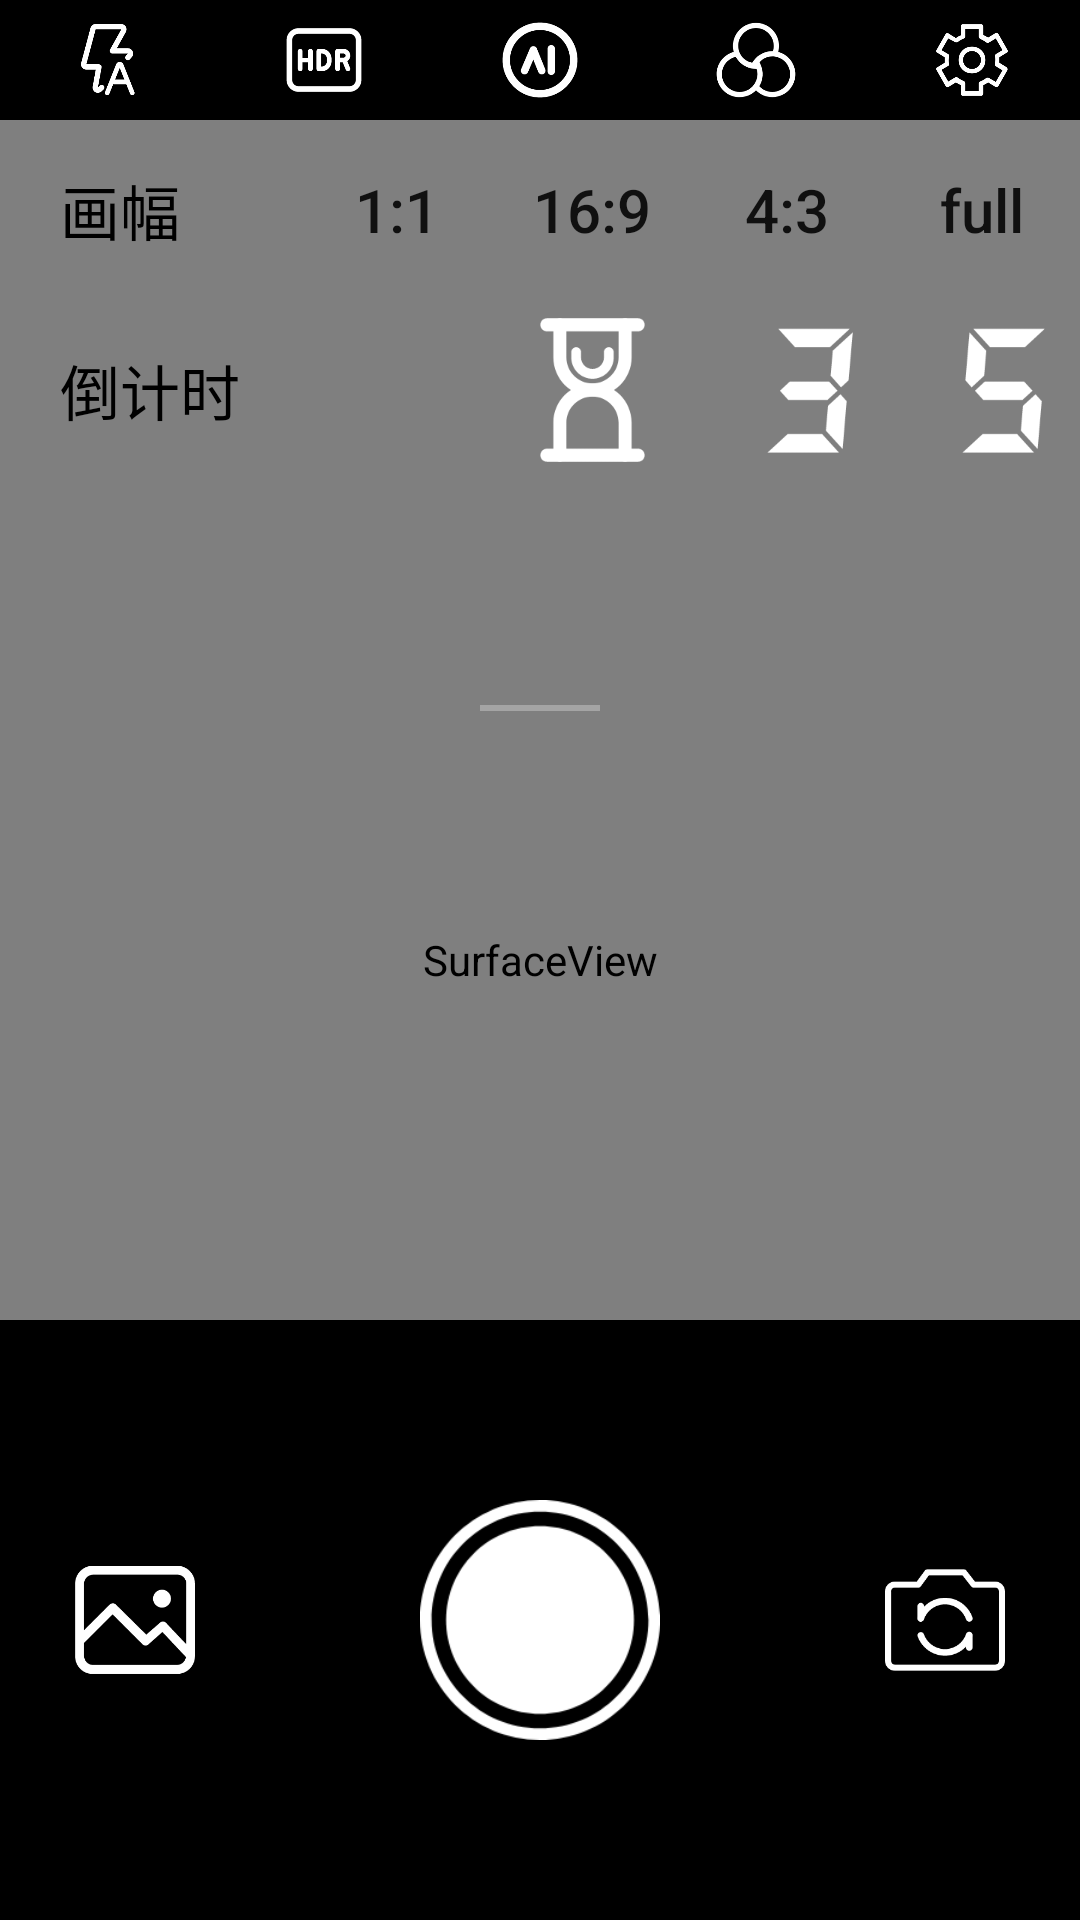

Screen size 1080x1920. Icon name, then its box in pixels as (left=x1, top=y1, right=x2, bottom=y2):
album: (left=75, top=1566, right=195, bottom=1674)
capture: (left=420, top=1500, right=660, bottom=1740)
chanage camera: (left=885, top=1569, right=1005, bottom=1671)
count down close: (left=540, top=318, right=645, bottom=462)
filter: (left=716, top=23, right=796, bottom=98)
flash auto: (left=81, top=24, right=135, bottom=95)
hdr auto: (left=286, top=28, right=362, bottom=92)
setting: (left=936, top=24, right=1008, bottom=96)
